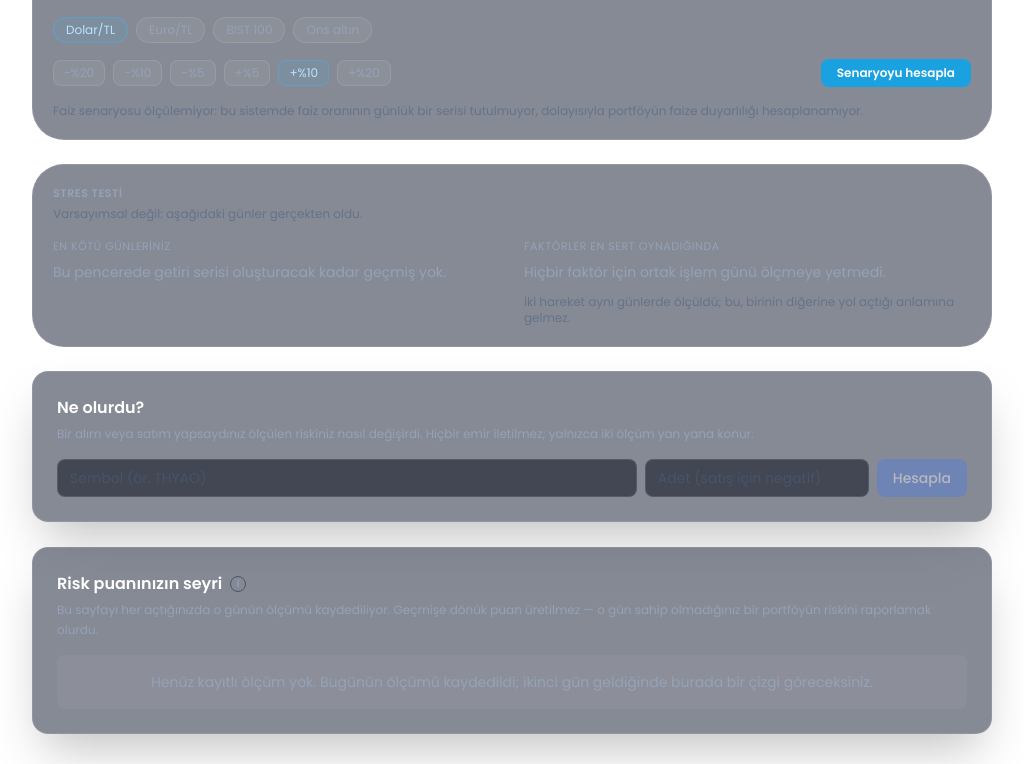
Test case: Analiz > Senaryo — ne olurdu › uygulanamayan bir değişikliği sessizce yutmaz
(page scrolled)
In the field named "Sembol": {"x": 347, "y": 478} [57,460,637,498], type "YOKBOYLE"
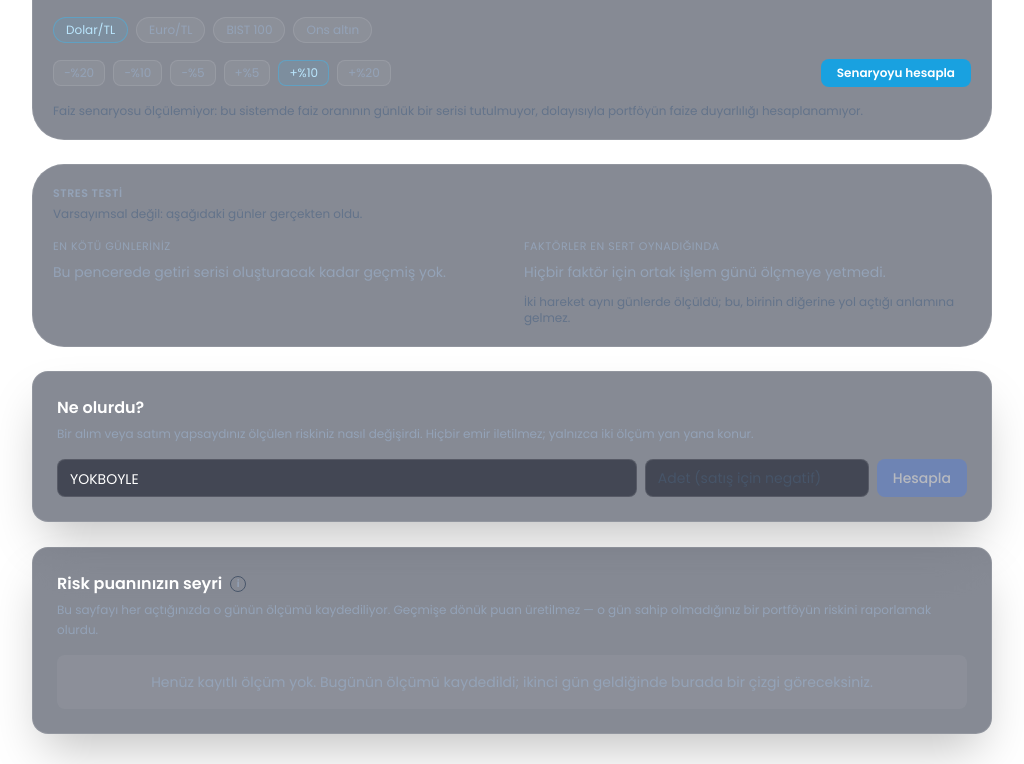
In the field named "Adet": {"x": 757, "y": 478} [645,460,869,498], type "5"
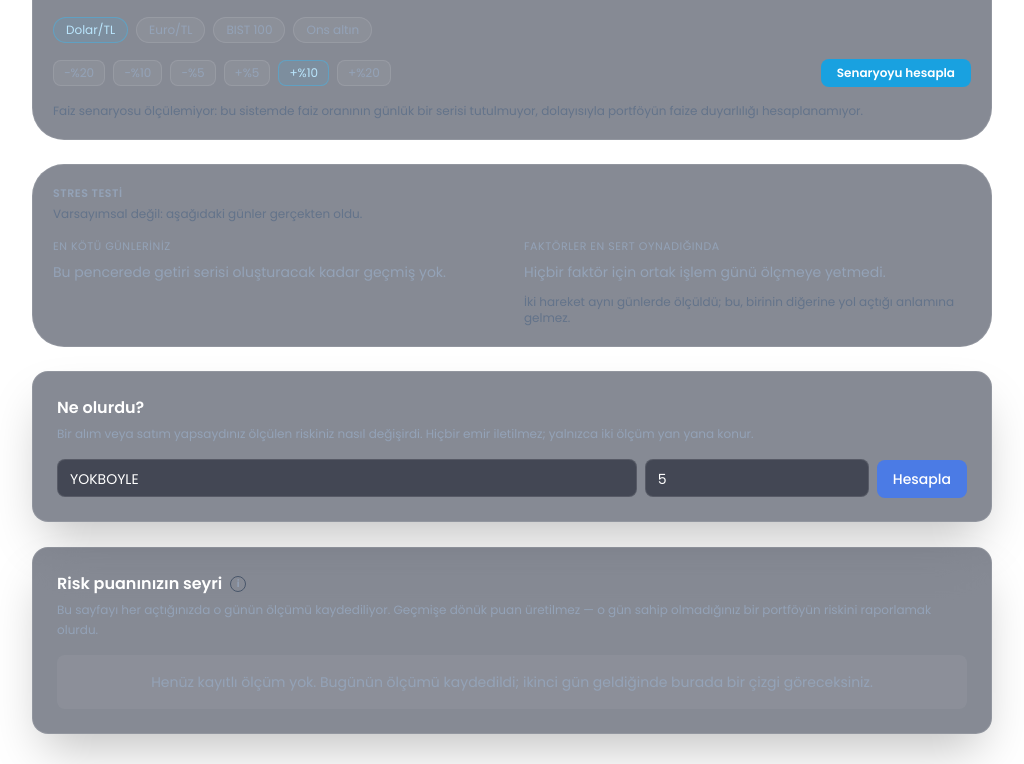
Click the button "Hesapla": {"x": 922, "y": 478} [877,460,967,498]
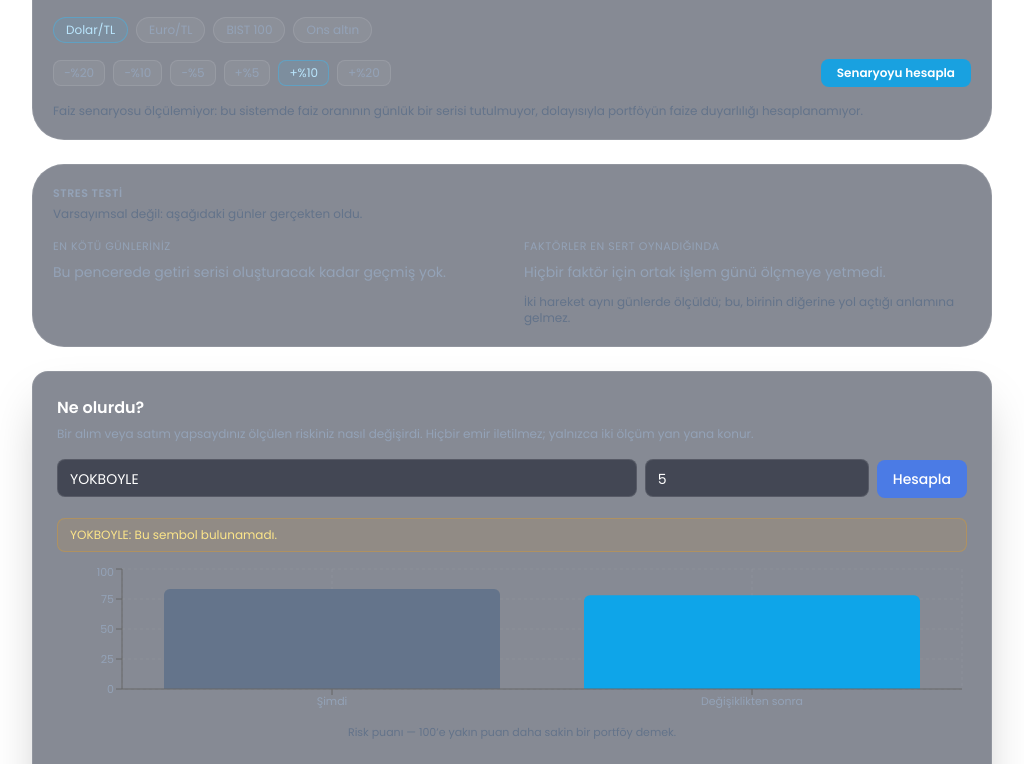
Result: the text "Bu sembol bulunamadı." is shown at [134,526,277,542]
